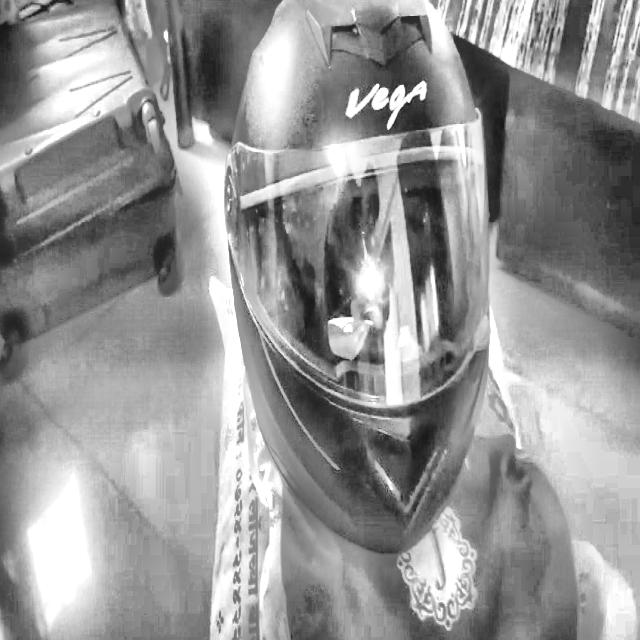Helmet: (222, 0, 505, 561)
